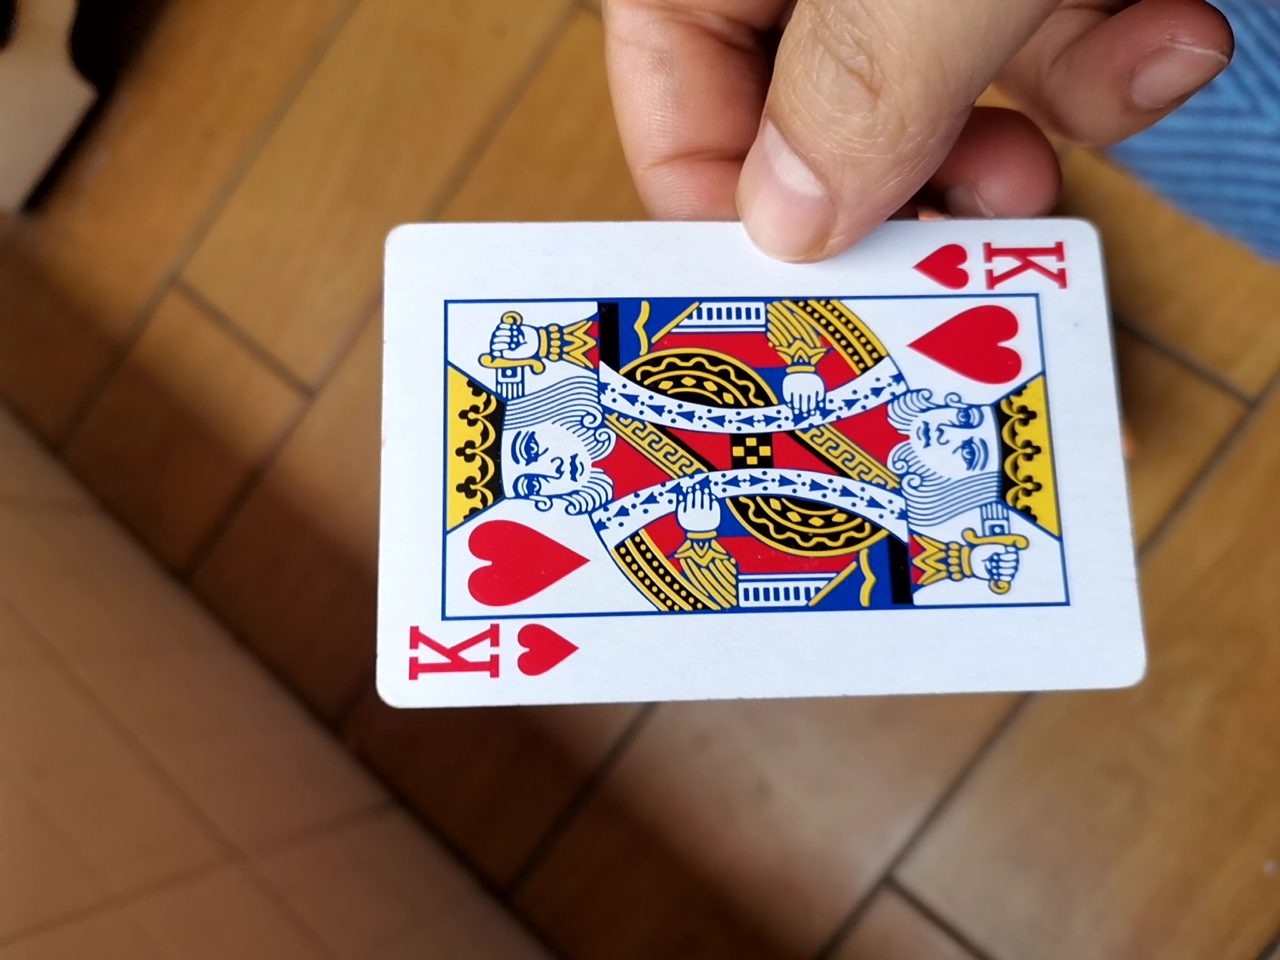hx k: (354, 217, 1135, 714)
